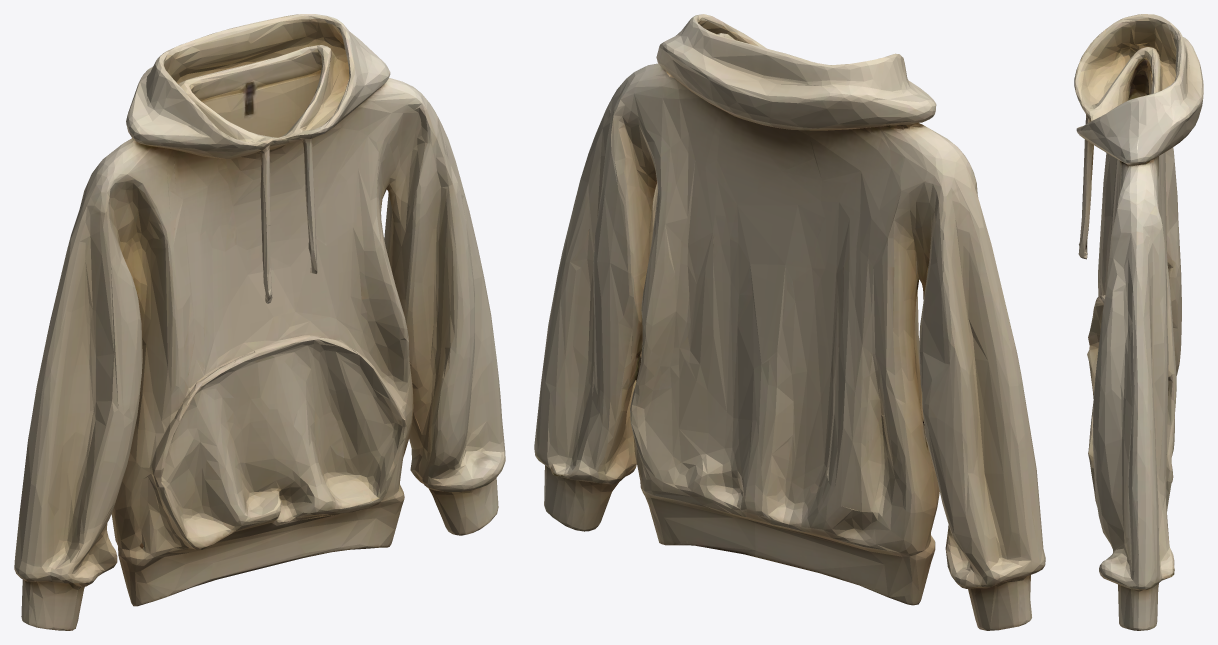
3 views of the same model, side by side, from view 1: azimuth 30°, elevation 25°; view 2: azimuth 150°, elevation 25°; view 3: azimuth 270°, elevation 25° (orthographic). The views are drawn at different scales.
Visible parts, largest first — view 1: geometry_0; view 2: geometry_0; view 3: geometry_0.
Boxes of the visible parts, x1,y1,x2,y2 form: geometry_0: (14,14,505,630); geometry_0: (534,14,1045,630); geometry_0: (1074,14,1203,630).
Bounding box in the file's own units: 0.9604 × 0.999 × 0.2427.
1 material, 1 textured.
